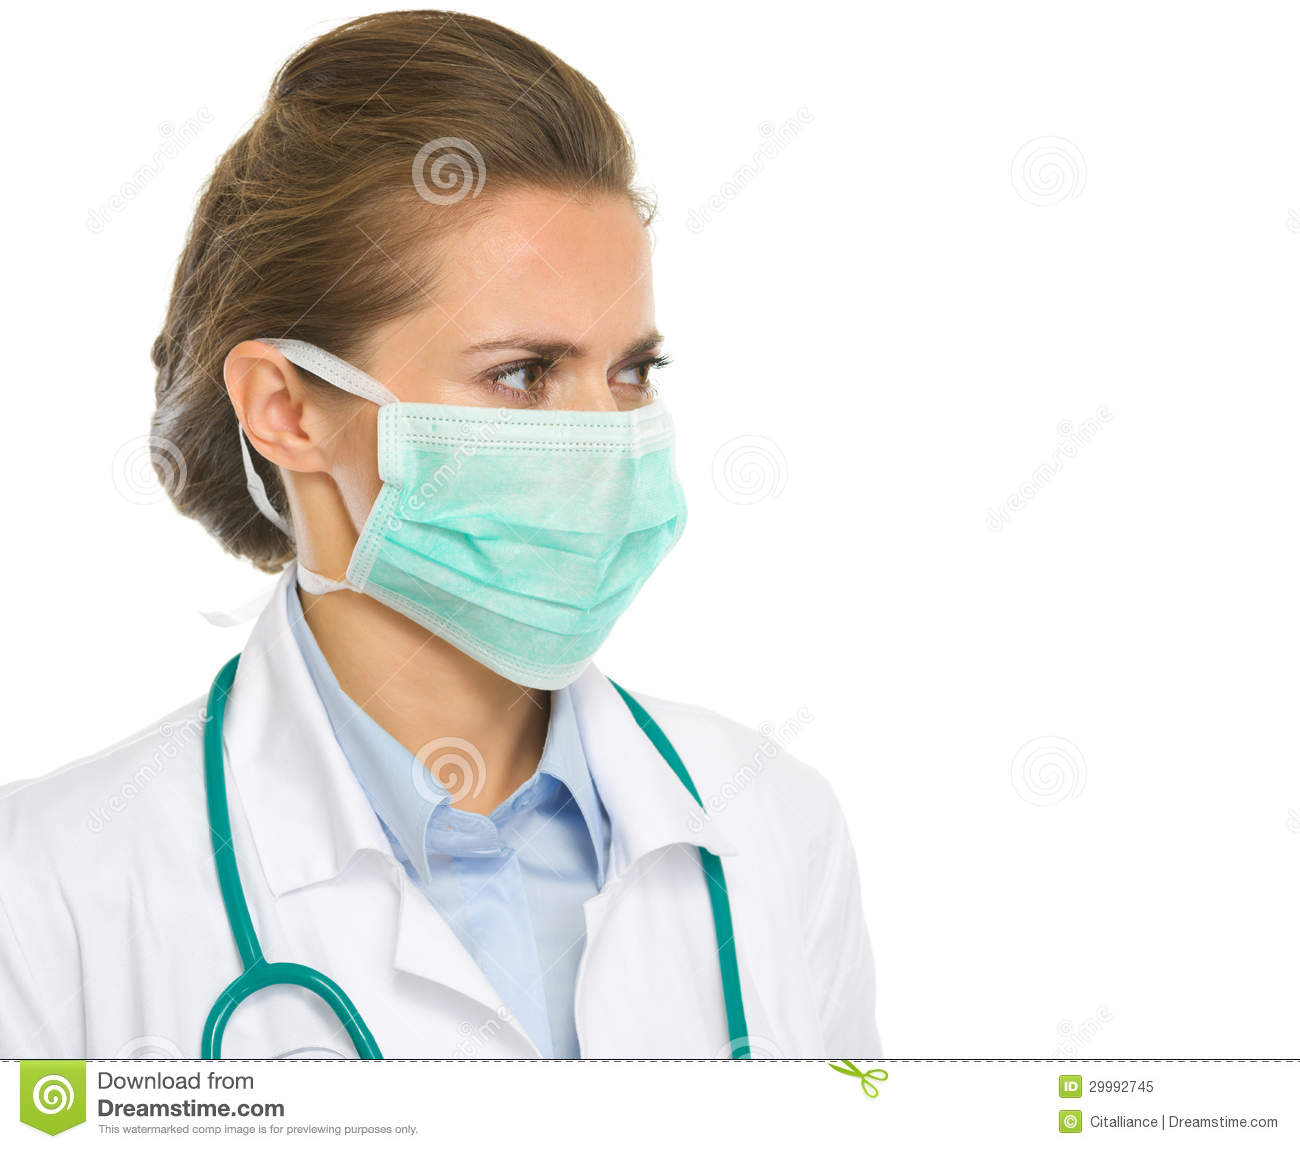mask: (346, 400, 691, 696)
